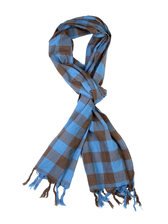other: (28, 18, 144, 212)
